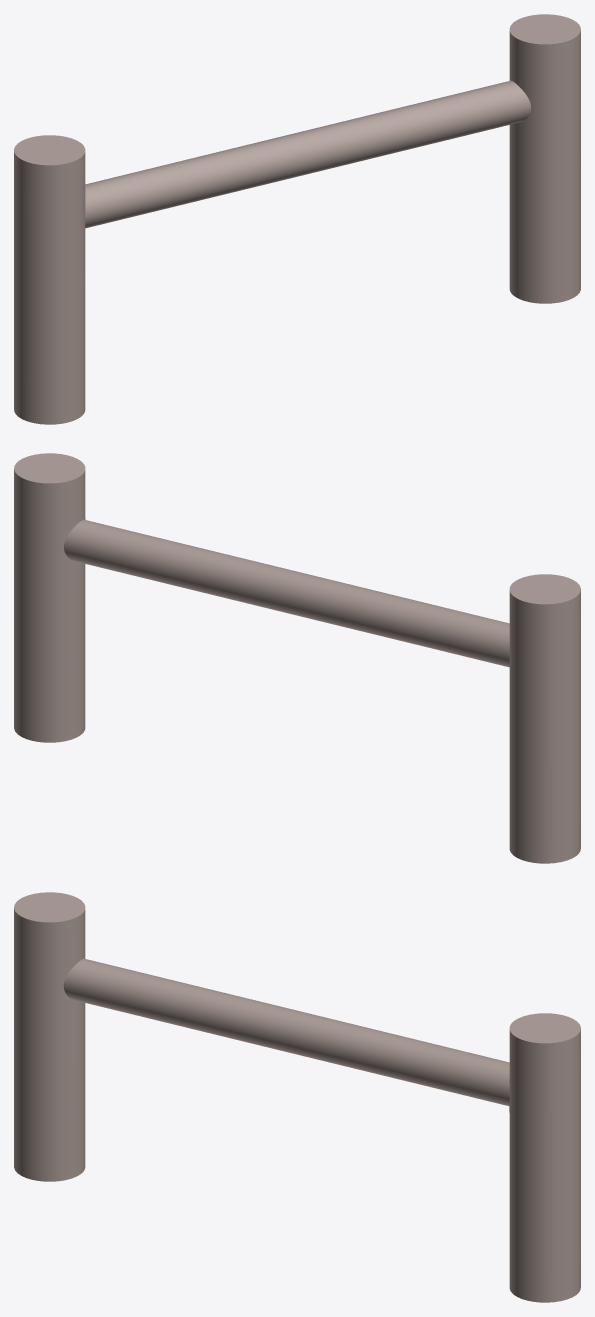
The model's file is 1015_fence_1.glb.
3 views of the same model, one above another, from view 1: azimuth 30°, elevation 25°; view 2: azimuth 150°, elevation 25°; view 3: azimuth 330°, elevation 25° (orthographic).
Parts seen in each view (by area): view 1: Body; view 2: Body; view 3: Body.
Part boxes in pixels (x1,y1,x2,y2): Body: [14, 14, 580, 424]; Body: [14, 453, 580, 863]; Body: [14, 892, 580, 1302].
Size of the model in its own units: 1.35 by 0.6 by 0.15.
